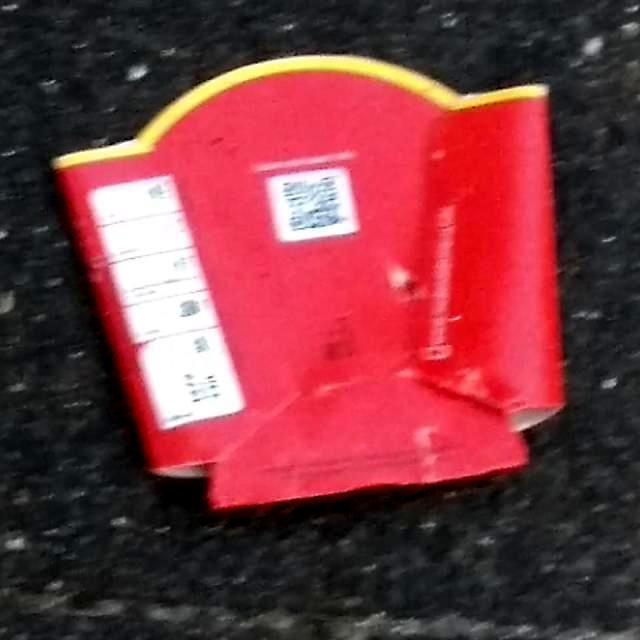Paper: (46, 49, 568, 515)
